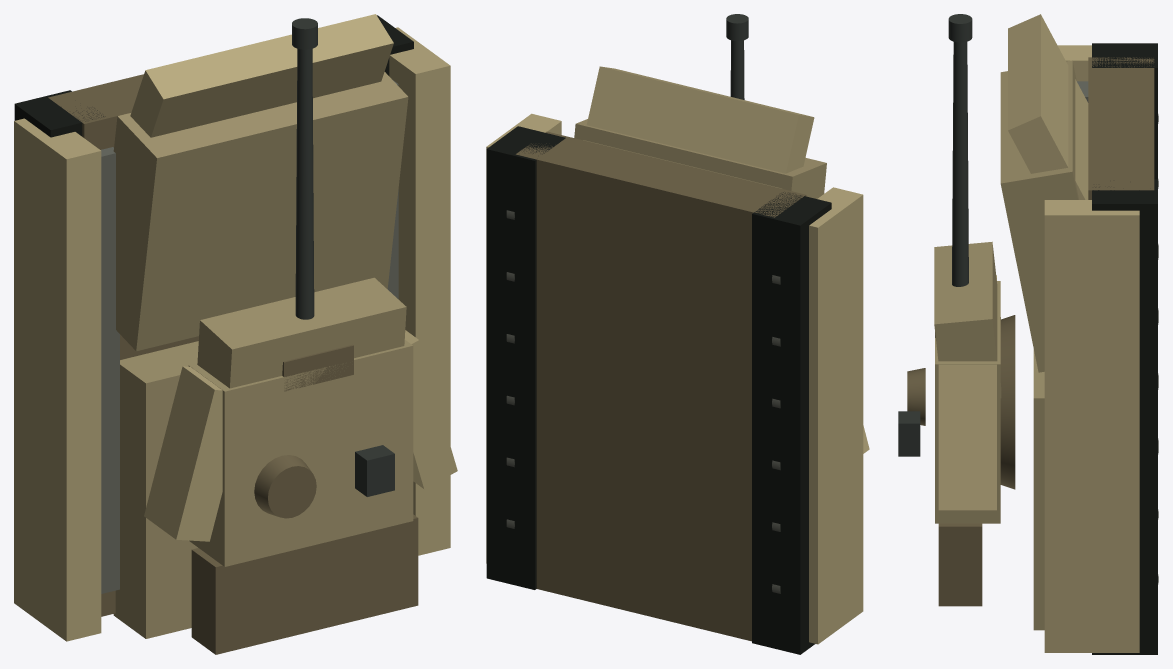
3 renders of one model, left to right at view 1: azimuth 30°, elevation 25°; view 2: azimuth 150°, elevation 25°; view 3: azimuth 270°, elevation 25°, orthographic. The views are drawn at different scales.
Parts seen in each view (by area): view 1: front_engine_hump, left_armored_skirt, low_rear_turret_core, rear_basket, right_armored_skirt, steep_front_nose, rear_troop_bay_deck, sloped_front_turret, left_turret_cheek, left_track_guard, barrel_tube, hull_lower (+7 smaller); view 2: hull_lower, left_track_rubber, left_armored_skirt, right_track_rubber, steep_front_nose, front_engine_hump, right_armored_skirt, barrel_tube, muzzle_collar; view 3: right_armored_skirt, right_track_rubber, steep_front_nose, hull_lower, right_turret_cheek, front_engine_hump, sloped_front_turret, barrel_tube, rear_basket, rear_troop_bay_deck, low_rear_turret_core, turret_ring (+5 smaller).
Part boxes in pixels (<box>): front_engine_hump: <box>113,72,408,351</box>; left_armored_skirt: <box>14,118,101,641</box>; low_rear_turret_core: <box>188,339,413,566</box>; rear_basket: <box>191,514,418,654</box>; right_armored_skirt: <box>389,27,450,555</box>; steep_front_nose: <box>130,14,393,137</box>; rear_troop_bay_deck: <box>113,341,198,638</box>; sloped_front_turret: <box>197,277,406,388</box>; left_turret_cheek: <box>144,366,222,541</box>; left_track_guard: <box>101,147,119,593</box>; barrel_tube: <box>295,48,314,319</box>; hull_lower: <box>48,74,198,616</box>; hull_lower: <box>516,131,806,641</box>; left_track_rubber: <box>752,192,831,654</box>; left_armored_skirt: <box>809,187,863,644</box>; right_track_rubber: <box>486,126,565,589</box>; steep_front_nose: <box>583,66,814,188</box>; front_engine_hump: <box>574,119,826,198</box>; right_armored_skirt: <box>486,113,561,563</box>; barrel_tube: <box>730,40,744,99</box>; muzzle_collar: <box>726,14,748,41</box>; right_armored_skirt: <box>1044,200,1139,652</box>; right_track_rubber: <box>1092,179,1157,654</box>; steep_front_nose: <box>1008,14,1088,199</box>; hull_lower: <box>1088,57,1154,199</box>; right_turret_cheek: <box>938,364,996,510</box>; front_engine_hump: <box>1000,60,1078,372</box>; sloped_front_turret: <box>934,241,1001,397</box>; barrel_tube: <box>952,42,968,286</box>; rear_basket: <box>938,523,982,606</box>; rear_troop_bay_deck: <box>1033,349,1044,630</box>; low_rear_turret_core: <box>935,281,1000,523</box>; turret_ring: <box>1000,315,1015,489</box>.
Bounding box in the file's own units: 55 × 84.3 × 35.6.
